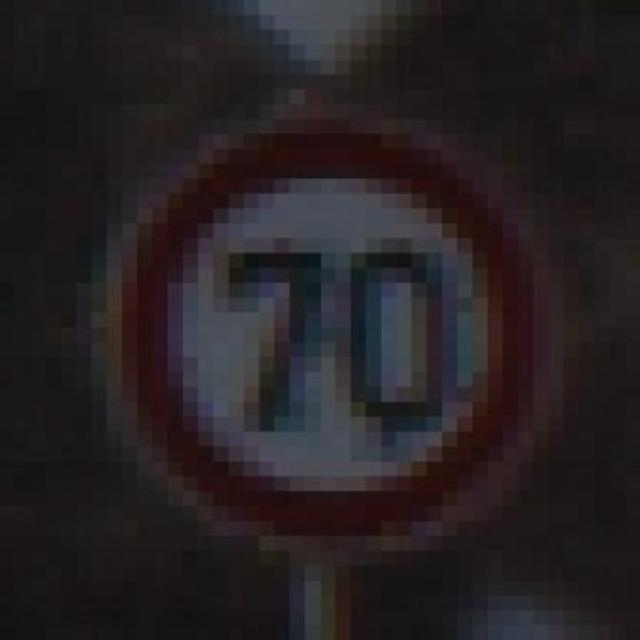forb_speed_over_70: (121, 127, 533, 547)
